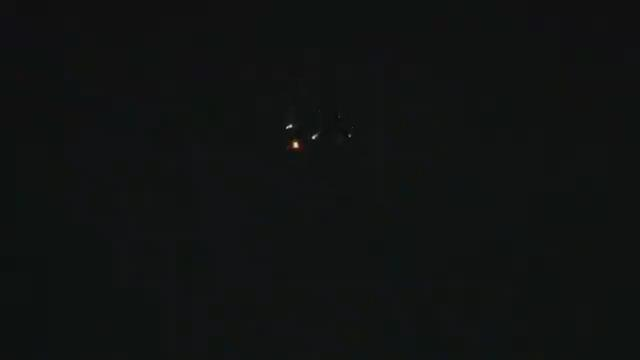Plane: (247, 113, 328, 165)
